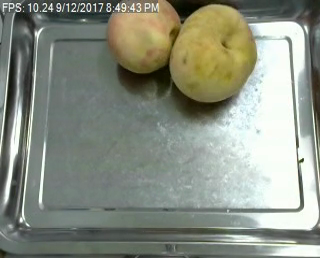Peach: (169, 3, 256, 104)
